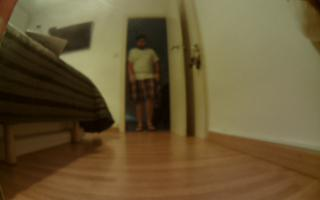person: (128, 34, 164, 134)
